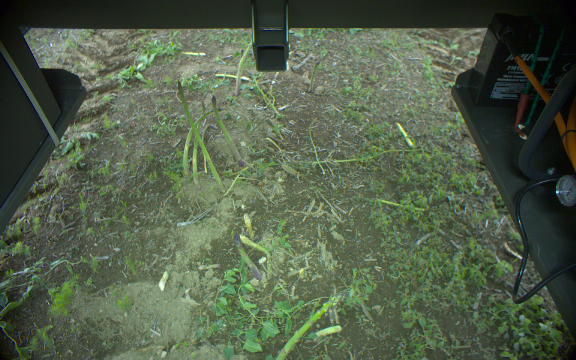aspa: (269, 291, 357, 360), (174, 79, 226, 193), (209, 95, 242, 166), (181, 111, 215, 176), (230, 235, 264, 284), (239, 233, 276, 278), (233, 42, 251, 94), (309, 60, 322, 92), (191, 139, 198, 181)
